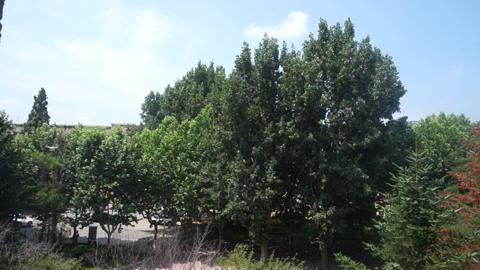UAV: (45, 146, 59, 151)
